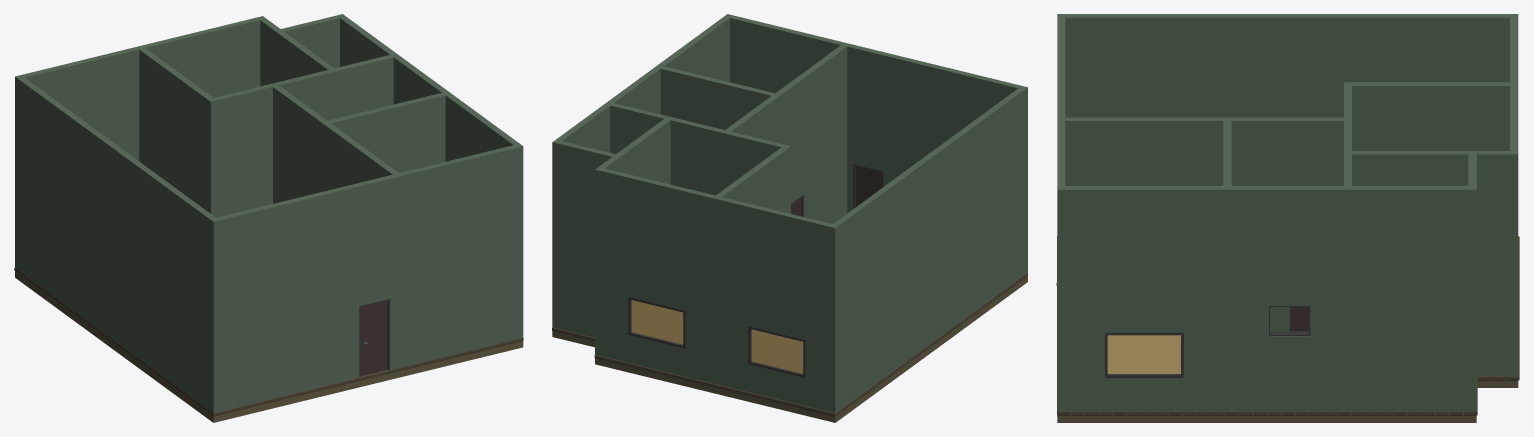
File: Casa_Saras_Fragments-test1.fbx
3 views of the same model, side by side, from view 1: azimuth 30°, elevation 25°; view 2: azimuth 150°, elevation 25°; view 3: azimuth 270°, elevation 25° (orthographic). The views are drawn at different scales.
Visible parts, largest first — view 1: Casa, Suelo, BaldosaMadera, Puerta, MarcoPuerta; view 2: Casa, Suelo, MarcoVent.001, MarcoVent, BaldosaMadera, Puerta; view 3: Casa, Suelo, MarcoVent.002, BaldosaMadera.
Part boxes in pixels (bbox=[...]): Casa: bbox=[15, 14, 523, 413]; Suelo: bbox=[15, 271, 523, 422]; BaldosaMadera: bbox=[14, 268, 523, 416]; Puerta: bbox=[360, 301, 387, 375]; MarcoPuerta: bbox=[359, 299, 390, 377]; Casa: bbox=[552, 14, 1027, 413]; Suelo: bbox=[552, 276, 1027, 422]; MarcoVent.001: bbox=[628, 297, 685, 348]; MarcoVent: bbox=[748, 326, 805, 377]; BaldosaMadera: bbox=[552, 273, 1027, 416]; Puerta: bbox=[855, 166, 881, 206]; Casa: bbox=[1057, 14, 1518, 415]; Suelo: bbox=[1057, 380, 1518, 422]; MarcoVent.002: bbox=[1105, 332, 1183, 377]; BaldosaMadera: bbox=[1057, 236, 1519, 415].
Size of the model in its own units: 10.01 by 6.2 by 11.15.
